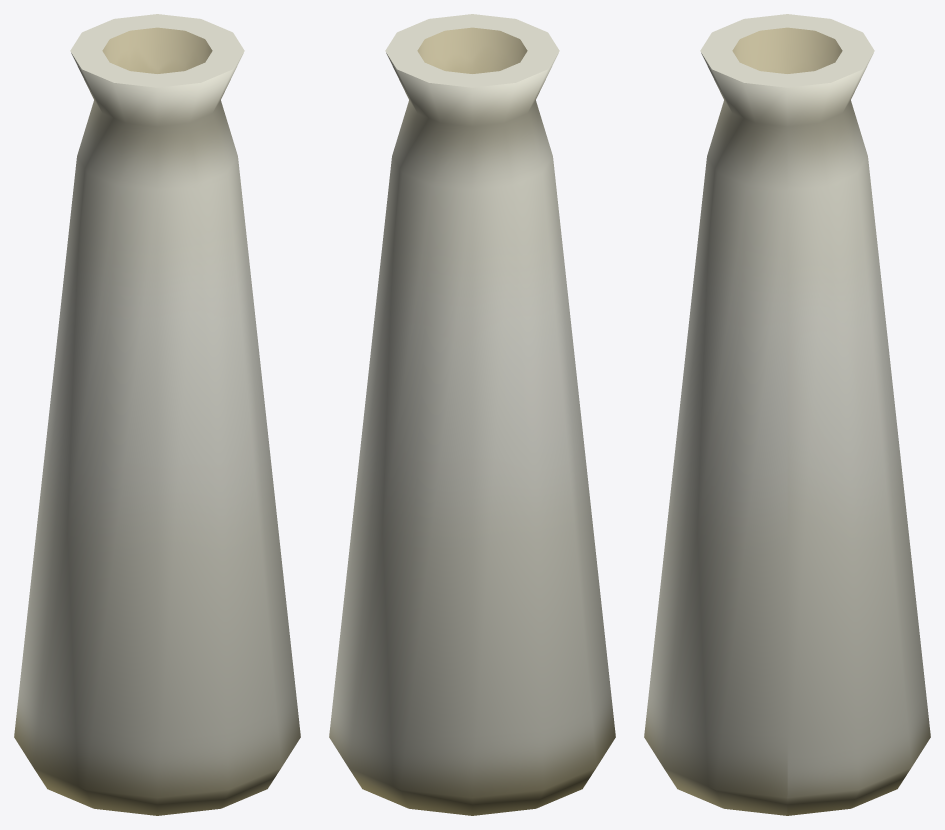
File: Plant_Pot_3.fbx
3 views of the same model, side by side, from view 1: azimuth 30°, elevation 25°; view 2: azimuth 150°, elevation 25°; view 3: azimuth 270°, elevation 25° (orthographic).
Visible parts, largest first — view 1: Cylinder; view 2: Cylinder; view 3: Cylinder.
Part boxes in pixels (x1,y1,x2,y2): Cylinder: (14, 14, 300, 815); Cylinder: (329, 14, 615, 815); Cylinder: (644, 14, 930, 815).
Size of the model in its own units: 225 by 617 by 225.
Materials: 1 (1 with a texture image).
